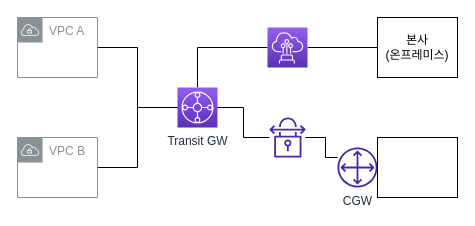
This 475x226 diagram has some shape labels left out. The box of each missing label's shape, as (x1, y1, x2, y2) in pixels:
Direct Connect: (266, 26, 308, 68)
VPN Connection: (267, 117, 307, 157)
지사 or 영업점: (376, 136, 458, 198)
